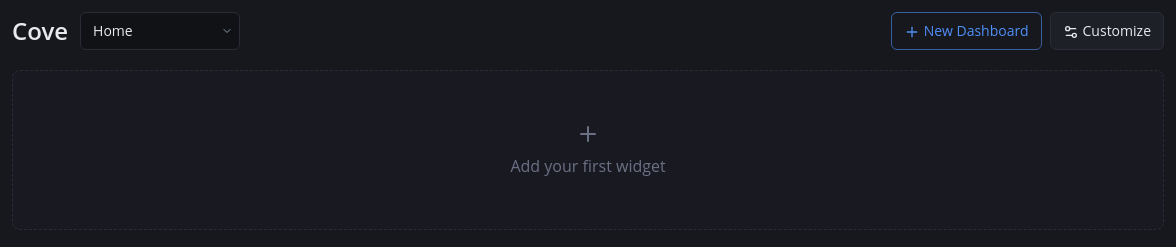
HomePage dashboards › refreshes to the fallback after deleting the default dashboard at the home URL
Click the button "Customize".
click(1107, 31)  # box [1050, 12, 1164, 50]
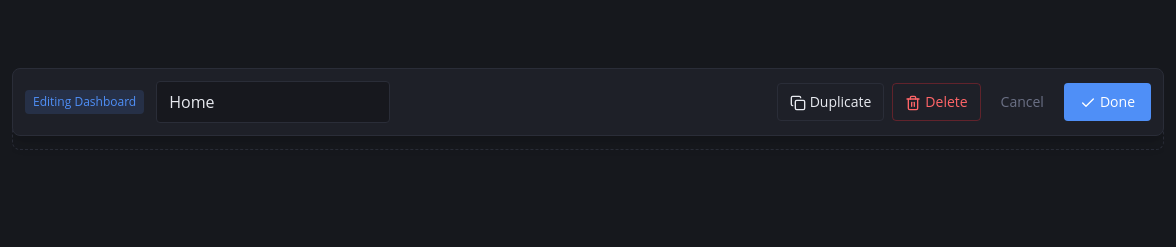
Click the button "Delete".
click(936, 102)  # box [892, 83, 981, 121]
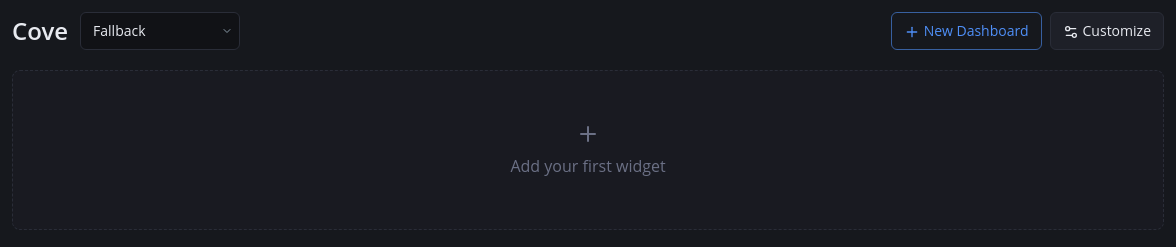
Now the dropdown named "Dashboard" shows "Fallback", box [80, 12, 240, 50]
Now the text "Editing Dashboard" is gone
